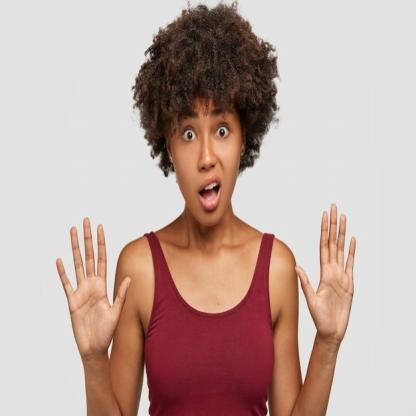stop: (54, 214, 131, 356), (294, 200, 359, 344)
